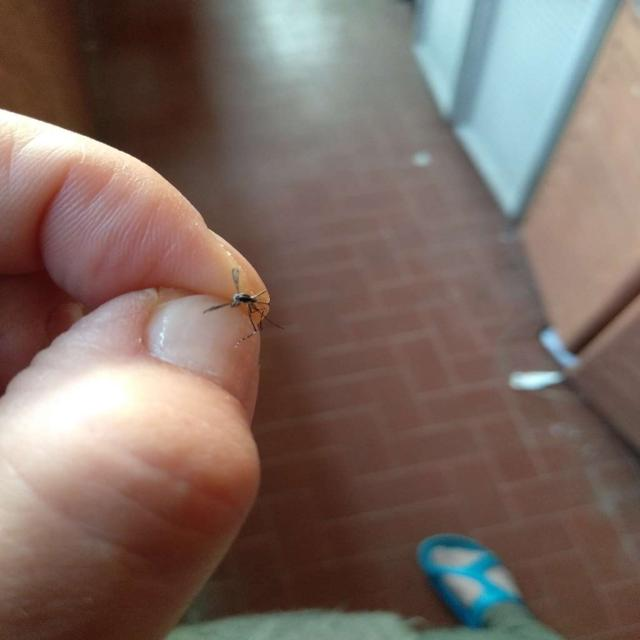albopictus: (188, 259, 286, 342)
